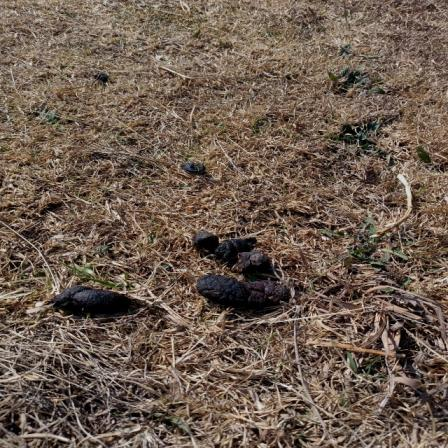dog-poop: (187, 230, 292, 318), (43, 272, 153, 332), (183, 156, 210, 183)
